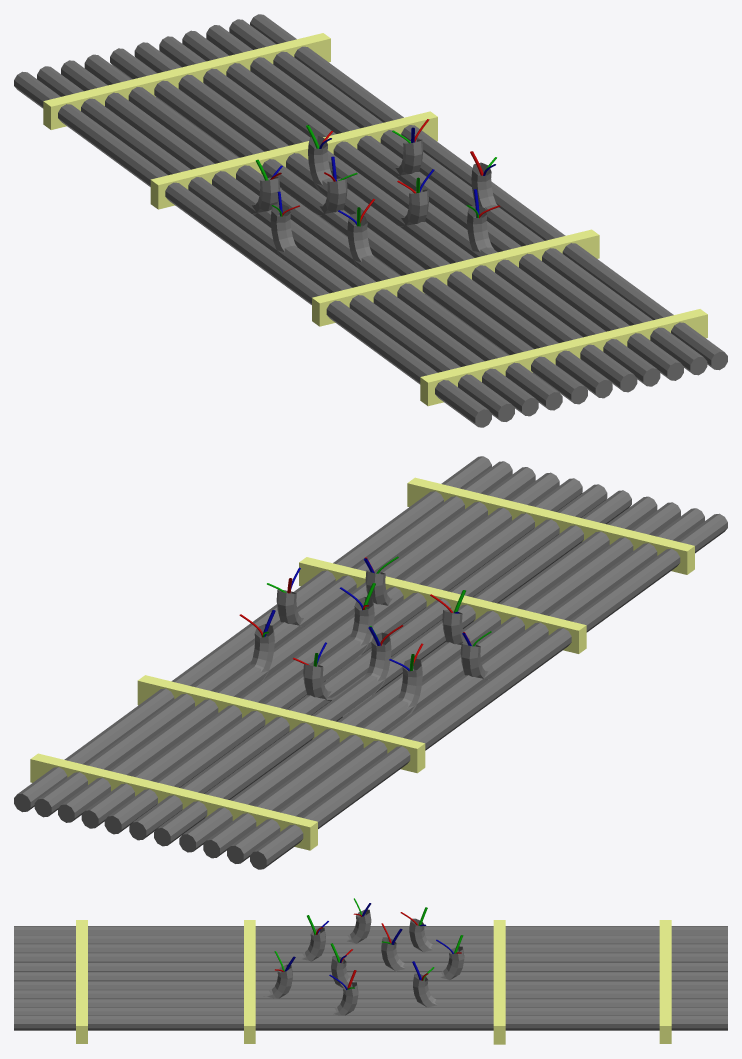
File: Cables_sol4.fbx
3 renders of one model, top to bottom at view 1: azimuth 30°, elevation 25°; view 2: azimuth 150°, elevation 25°; view 3: azimuth 270°, elevation 25°, orthographic. The views are drawn at different scales.
Parts seen in each view (by area): view 1: Tube28, Tube32, Tube34, Tube29, Tube33, Tube30, Tube31, Tube36, Tube35, Tube37, Tube38, Support_tube1 (+12 smaller); view 2: Tube28, Tube32, Tube29, Tube34, Tube33, Tube36, Tube30, Tube31, Tube37, Tube35, Tube38, Support_tube2 (+11 smaller); view 3: Tube38, Tube36, Tube35, Tube33, Tube31, Tube32, Tube37, Tube28, Tube34, Tube30, Tube29, Support_tube2 (+12 smaller).
Boxes of the visible parts, x1=… form: Tube28: x1=14, y1=71, x2=491, y2=427; Tube32: x1=110, y1=48, x2=587, y2=404; Tube34: x1=159, y1=36, x2=637, y2=392; Tube29: x1=37, y1=66, x2=514, y2=421; Tube33: x1=134, y1=42, x2=612, y2=398; Tube30: x1=61, y1=60, x2=538, y2=416; Tube31: x1=84, y1=54, x2=562, y2=410; Tube36: x1=206, y1=25, x2=683, y2=380; Tube35: x1=182, y1=30, x2=660, y2=386; Tube37: x1=229, y1=19, x2=707, y2=375; Tube38: x1=250, y1=14, x2=727, y2=370; Support_tube1: x1=312, y1=229, x2=599, y2=326; Tube28: x1=250, y1=513, x2=727, y2=869; Tube32: x1=154, y1=490, x2=631, y2=846; Tube29: x1=227, y1=508, x2=704, y2=863; Tube34: x1=104, y1=478, x2=582, y2=834; Tube33: x1=129, y1=484, x2=607, y2=840; Tube36: x1=58, y1=467, x2=535, y2=822; Tube30: x1=203, y1=502, x2=680, y2=858; Tube31: x1=179, y1=496, x2=657, y2=852; Tube37: x1=34, y1=461, x2=512, y2=817; Tube35: x1=81, y1=472, x2=559, y2=828; Tube38: x1=14, y1=456, x2=491, y2=812; Support_tube2: x1=137, y1=675, x2=425, y2=773; Tube38: x1=14, y1=1015, x2=727, y2=1030; Tube36: x1=14, y1=998, x2=727, y2=1007; Tube35: x1=14, y1=989, x2=727, y2=998; Tube33: x1=14, y1=971, x2=727, y2=980; Tube31: x1=14, y1=953, x2=727, y2=962; Tube32: x1=14, y1=962, x2=727, y2=971; Tube37: x1=14, y1=1007, x2=727, y2=1015; Tube28: x1=14, y1=926, x2=727, y2=934; Tube34: x1=14, y1=981, x2=727, y2=989; Tube30: x1=14, y1=944, x2=727, y2=952; Tube29: x1=14, y1=935, x2=727, y2=943; Support_tube2: x1=493, y1=920, x2=505, y2=1044.
Bounding box in the file's own units: 3.5 × 0.8352 × 9.99.
